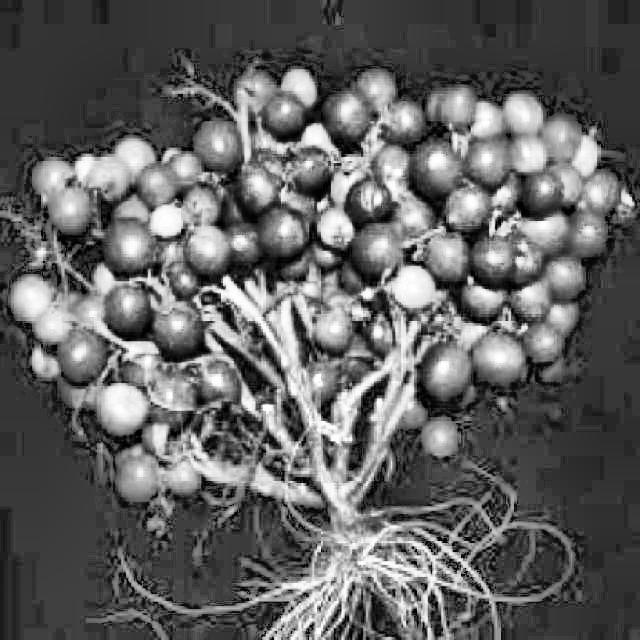plants: (5, 57, 630, 596)
